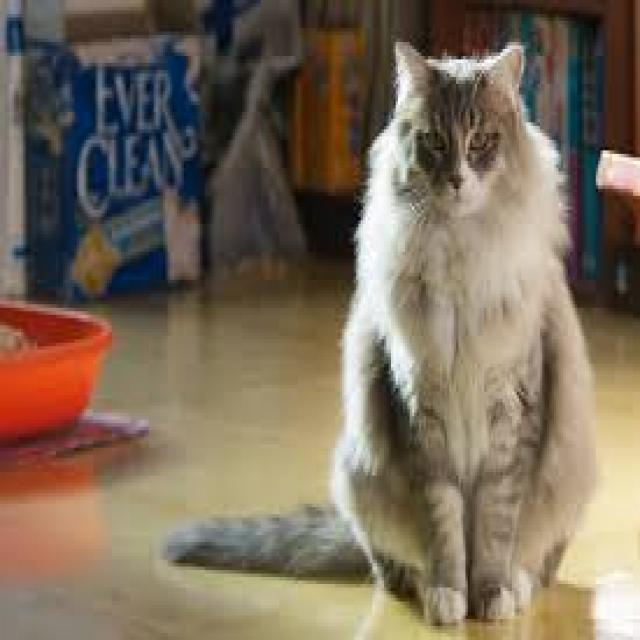cat: (157, 35, 612, 630)
